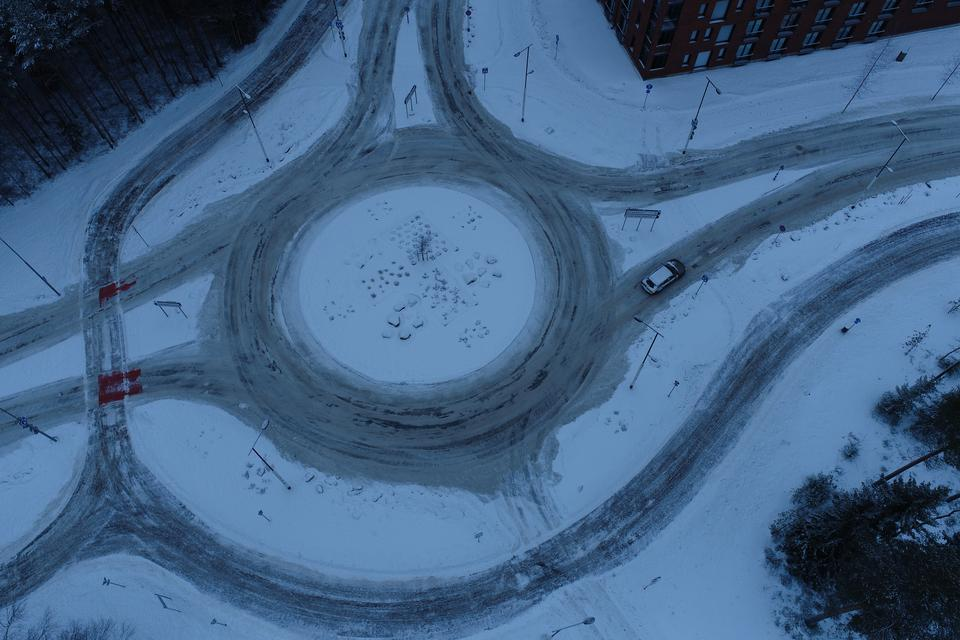intersection: (69, 221, 149, 444)
roundabout: (165, 68, 752, 640)
